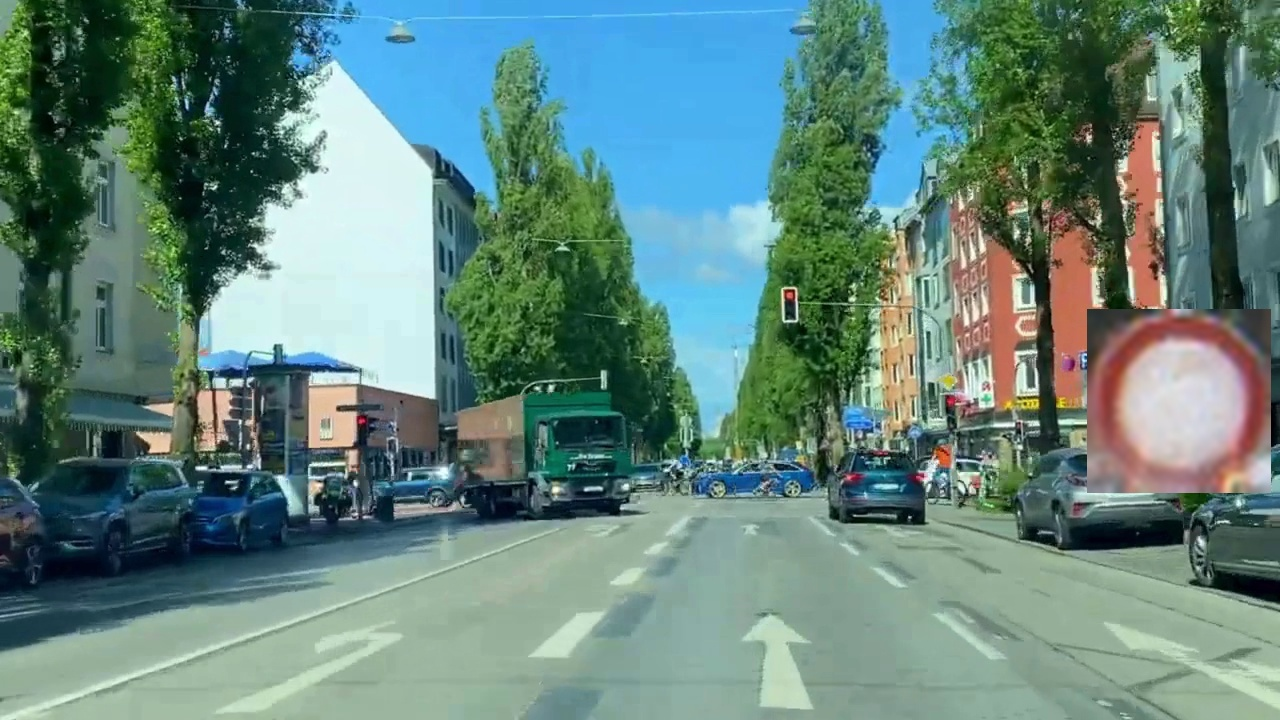No vehicles: (1087, 309, 1271, 493)
